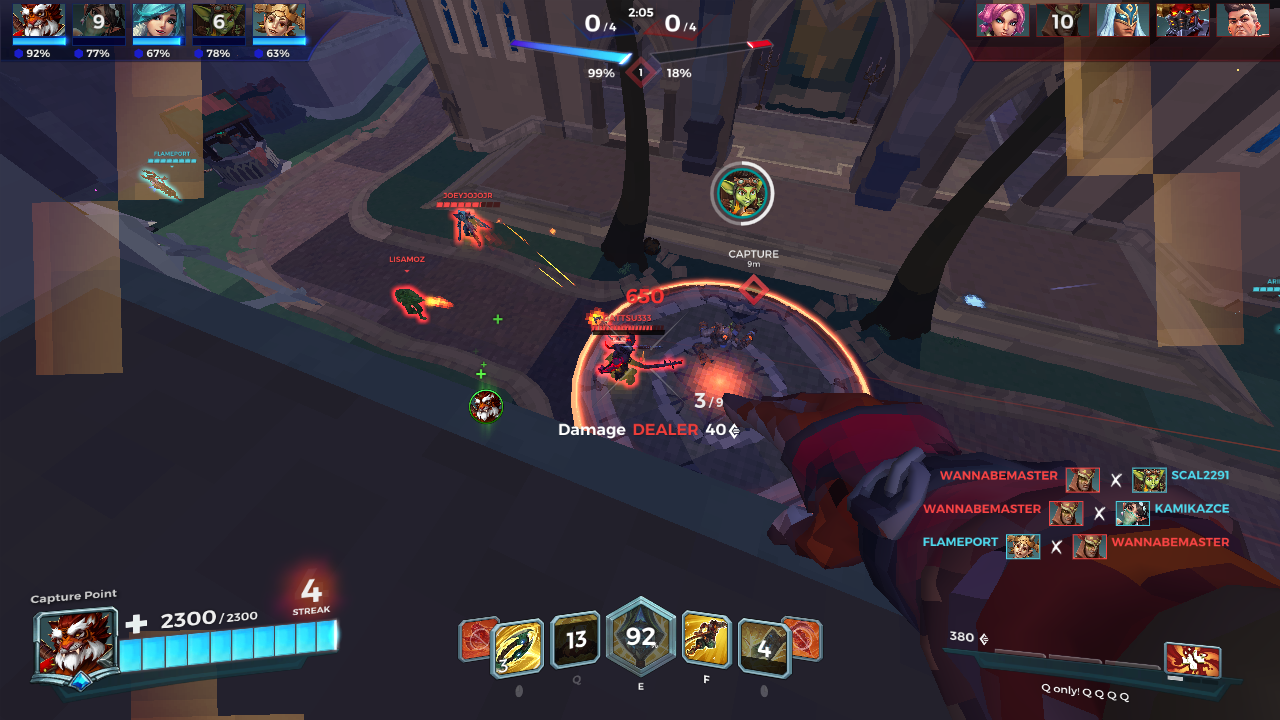model: (589, 334, 683, 389), (387, 282, 437, 326), (446, 206, 491, 249)
